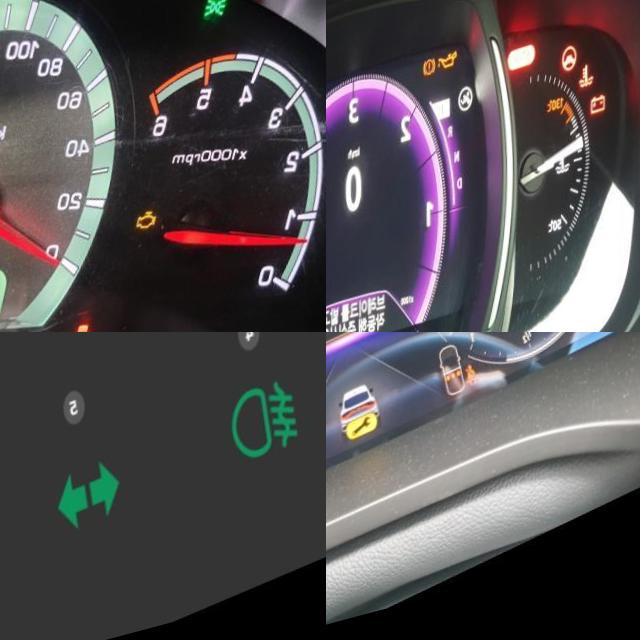Engine cooling system: (580, 89, 595, 118)
FrontFogLight: (228, 393, 303, 493)
SideLamp: (204, 11, 231, 43)
